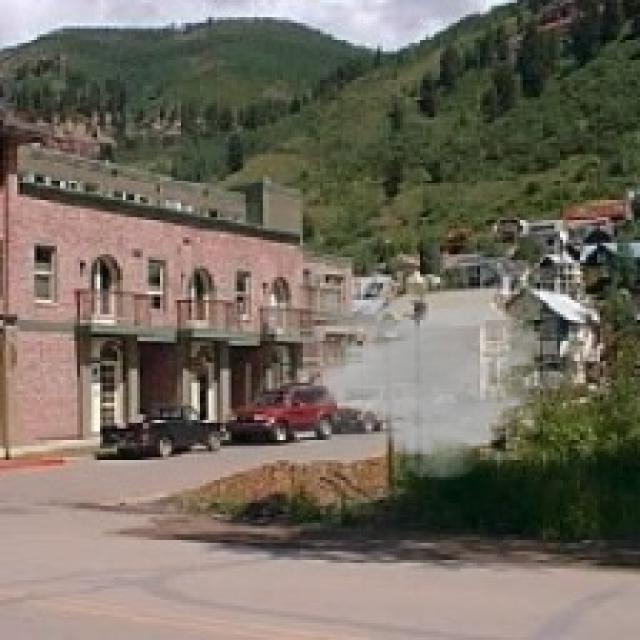smoke: (288, 280, 548, 486)
